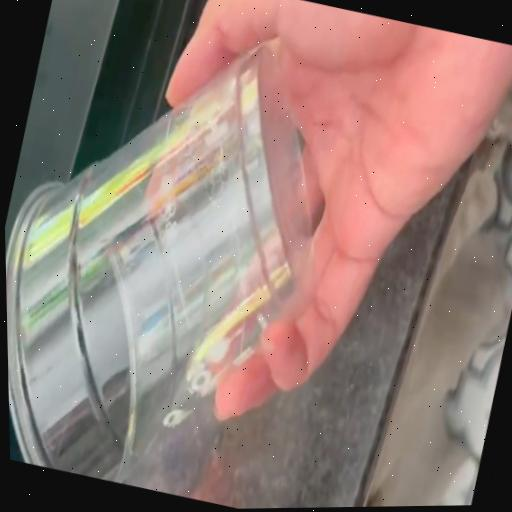ly_nhua: (6, 45, 319, 484)
